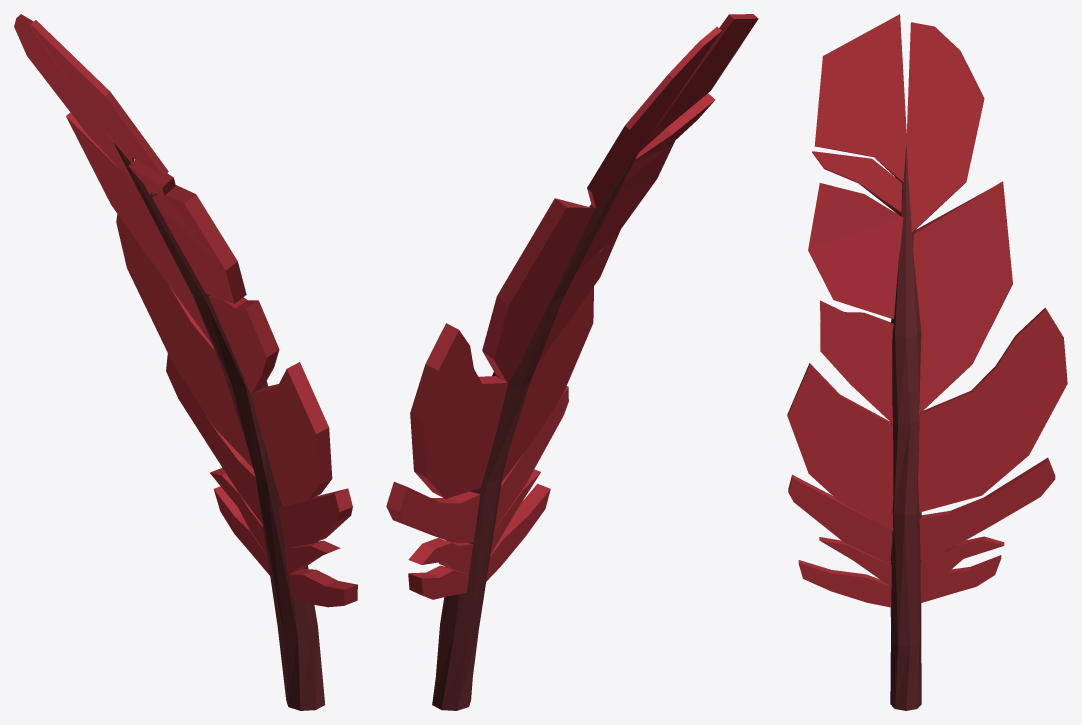
File: cardinal feather.fbx
The picture shows the model from 3 angles, left to right: view 1: azimuth 30°, elevation 25°; view 2: azimuth 150°, elevation 25°; view 3: azimuth 270°, elevation 25°; orthographic projection. The views are drawn at different scales.
Parts seen in each view (by area): view 1: FeatherStick, FeatherEnd_11, FeatherEnd_05, FeatherEnd_03, FeatherEnd_10, FeatherEnd_01, FeatherEnd_04, FeatherEnd_09, FeatherEnd_12, FeatherEnd_06, FeatherEnd_08, FeatherEnd_14 (+3 smaller); view 2: FeatherStick, FeatherEnd_11, FeatherEnd_10, FeatherEnd_05, FeatherEnd_09, FeatherEnd_12, FeatherEnd_01, FeatherEnd_03, FeatherEnd_06, FeatherEnd_08, FeatherEnd_04, FeatherEnd_02 (+3 smaller); view 3: FeatherEnd_11, FeatherEnd_10, FeatherStick, FeatherEnd_09, FeatherEnd_01, FeatherEnd_05, FeatherEnd_03, FeatherEnd_04, FeatherEnd_12, FeatherEnd_06, FeatherEnd_02, FeatherEnd_08 (+3 smaller).
Part boxes in pixels (<box>): FeatherStick: <box>113,142,325,710</box>; FeatherEnd_11: <box>116,214,253,468</box>; FeatherEnd_05: <box>251,362,332,506</box>; FeatherEnd_03: <box>152,185,246,303</box>; FeatherEnd_10: <box>66,112,212,344</box>; FeatherEnd_01: <box>31,20,168,176</box>; FeatherEnd_04: <box>208,295,279,394</box>; FeatherEnd_09: <box>14,14,135,184</box>; FeatherEnd_12: <box>166,353,262,524</box>; FeatherEnd_06: <box>278,488,352,548</box>; FeatherEnd_08: <box>288,568,357,607</box>; FeatherEnd_14: <box>213,486,269,575</box>; FeatherStick: <box>432,149,640,710</box>; FeatherEnd_11: <box>410,323,508,498</box>; FeatherEnd_10: <box>482,198,595,382</box>; FeatherEnd_05: <box>501,287,593,481</box>; FeatherEnd_09: <box>587,26,721,208</box>; FeatherEnd_12: <box>386,481,480,542</box>; FeatherEnd_01: <box>638,14,758,152</box>; FeatherEnd_03: <box>576,141,674,273</box>; FeatherEnd_06: <box>494,386,568,529</box>; FeatherEnd_08: <box>486,483,550,581</box>; FeatherEnd_04: <box>538,230,620,362</box>; FeatherEnd_02: <box>622,93,715,183</box>; FeatherEnd_11: <box>918,307,1067,512</box>; FeatherEnd_10: <box>913,181,1012,413</box>; FeatherStick: <box>890,145,921,710</box>; FeatherEnd_09: <box>906,22,984,232</box>; FeatherEnd_01: <box>814,14,906,182</box>; FeatherEnd_05: <box>787,363,893,530</box>; FeatherEnd_03: <box>808,183,903,318</box>; FeatherEnd_04: <box>820,300,893,423</box>; FeatherEnd_12: <box>919,457,1055,559</box>; FeatherEnd_06: <box>788,474,892,564</box>; FeatherEnd_02: <box>812,151,902,214</box>; FeatherEnd_08: <box>798,560,891,607</box>.
Bounding box in the file's own units: 10.95 × 26.57 × 11.5.
Materials: 2 (2 with a texture image).
